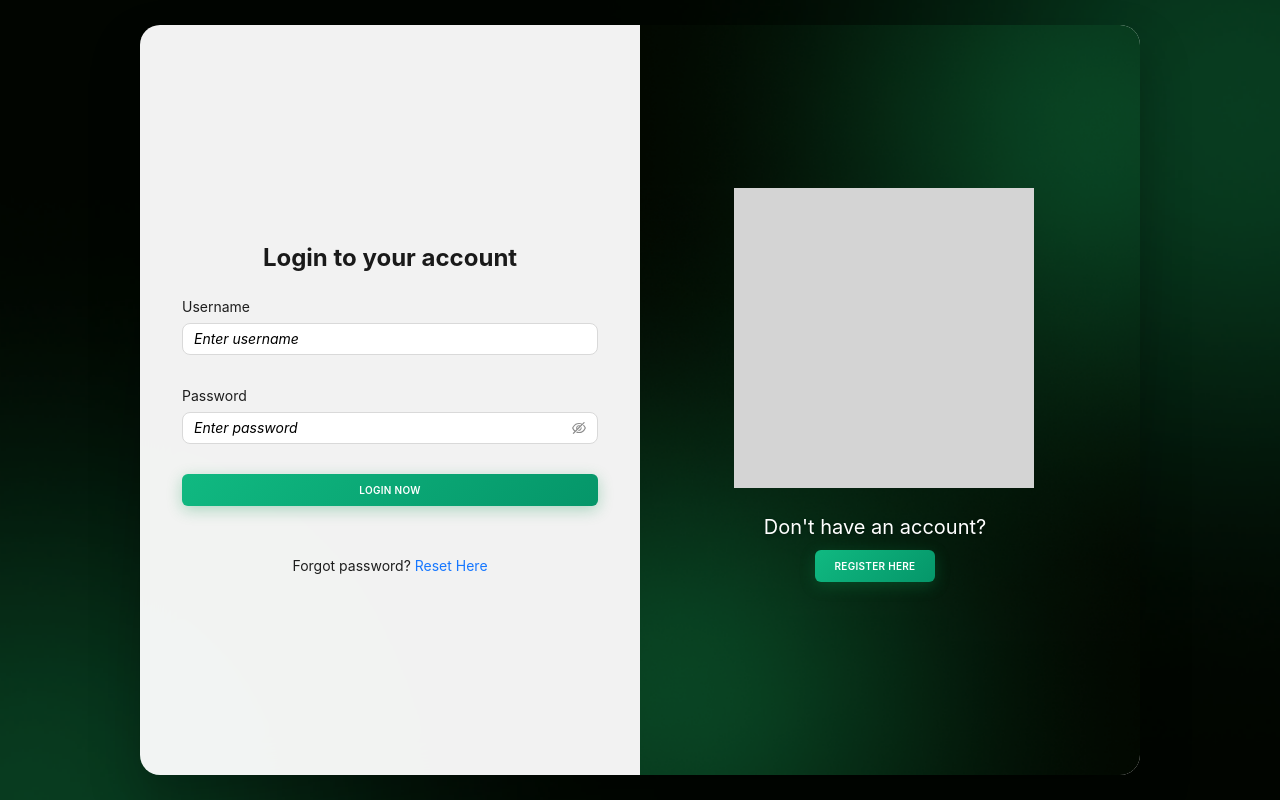
Scenario: Login Component › Register Form › shows validation errors when submitting empty register form
// Switch to register form
What coordinates should you click on to do the following:
click the button "Register Here"
I would click on:
 (875, 566)
Its box is [814,550,936,582].
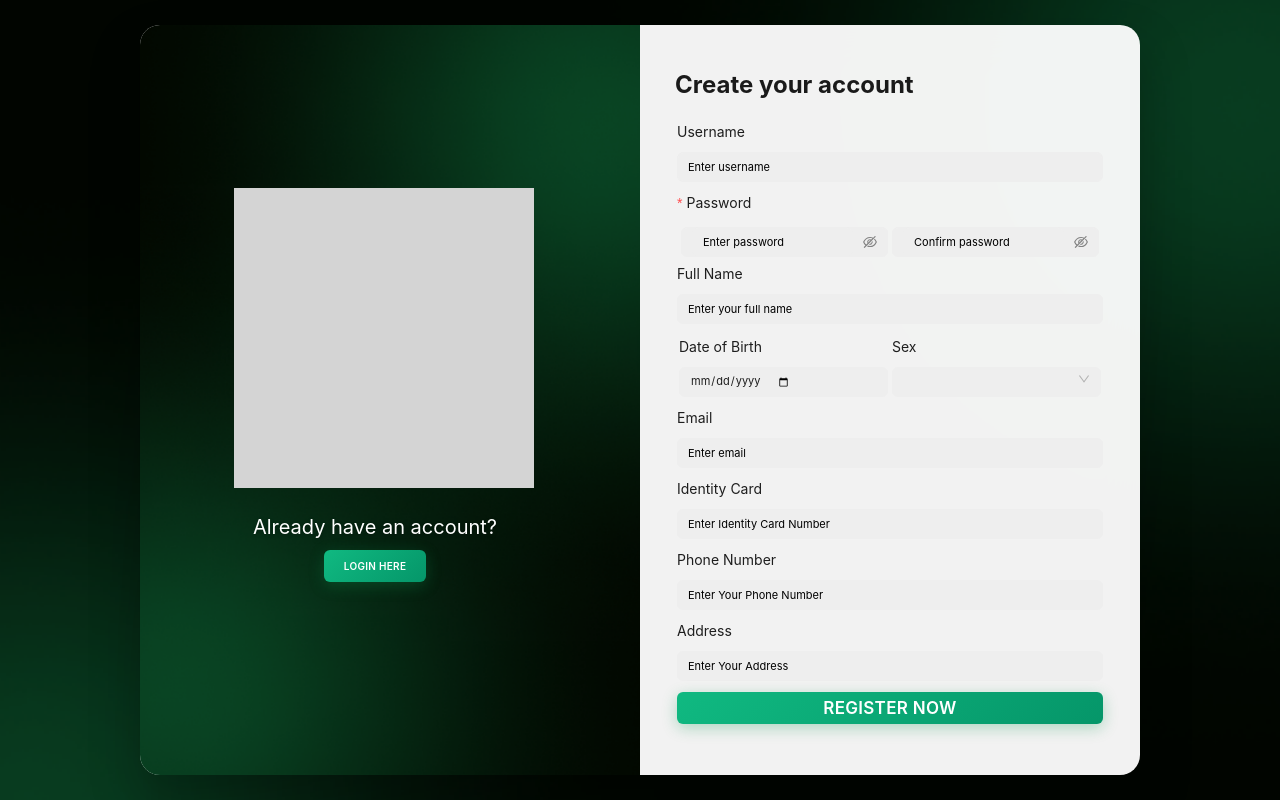
What coordinates should you click on to do the following:
click the button "Register now"
I would click on:
 (890, 708)
Its box is [677,692,1103,724].
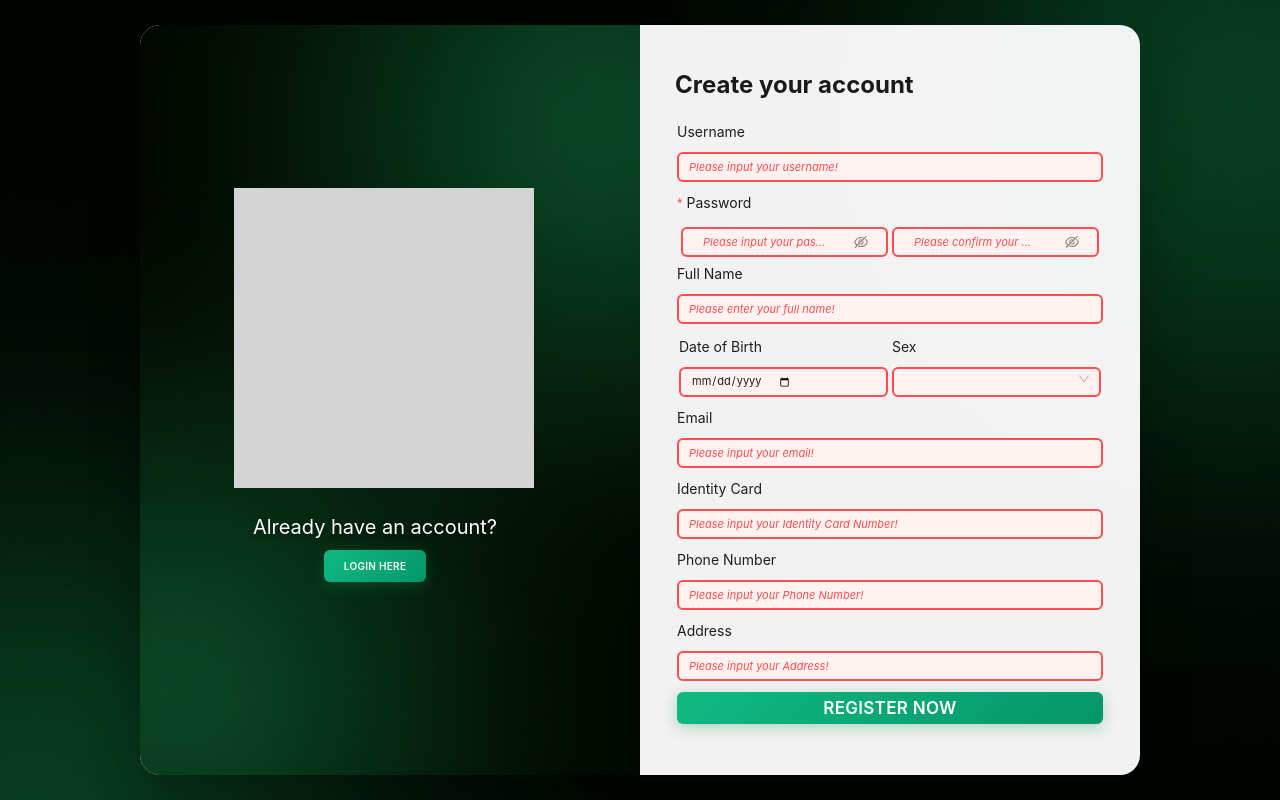
Check: the field with placeholder "Please input your username!" is shown, box [677,152,1103,182]
Check: the field with placeholder "Please input your email!" is shown, box [677,438,1103,468]
Check: the password field with placeholder "Please input your password!" is shown, box [693,227,836,257]
